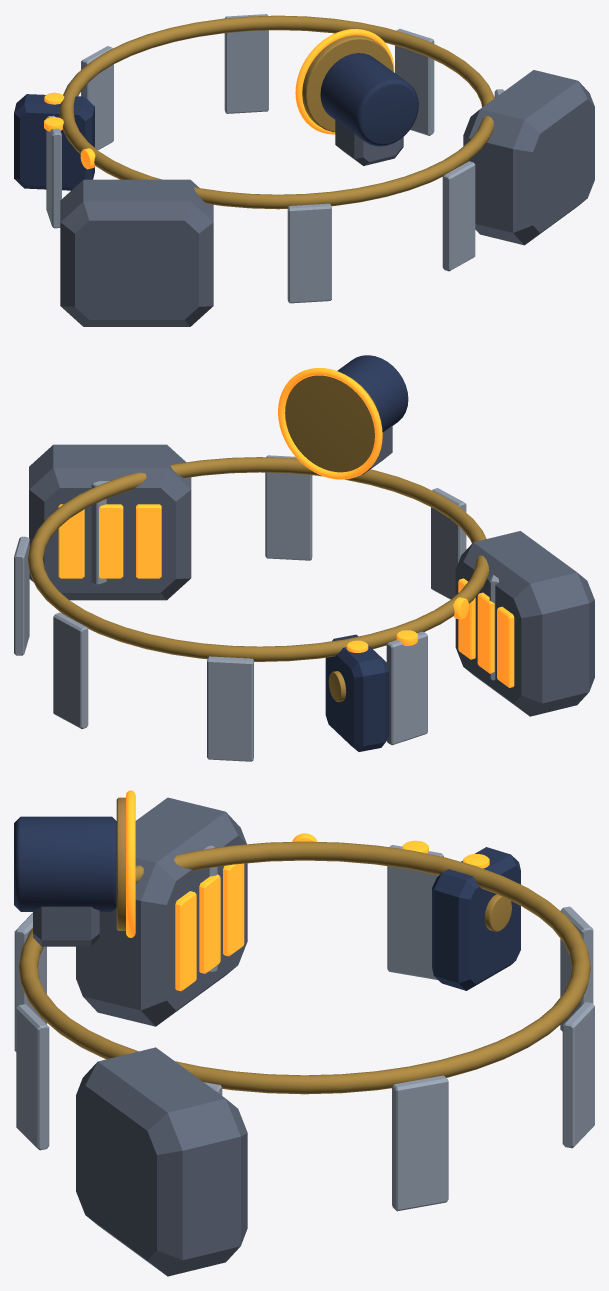
File: tower_overclock_efficiency_s7.glb
3 renders of one model, top to bottom at view 1: azimuth 30°, elevation 25°; view 2: azimuth 150°, elevation 25°; view 3: azimuth 270°, elevation 25°, orthographic. The views are drawn at different scales.
Visible parts, largest first — view 1: overclock_battery_b, overclock_battery, overclock_coolant_loop, overclock_governor, overclock_regulator, overclock_base_fin6, overclock_base_fin2, overclock_base_fin5, overclock_governor_wheel, overclock_base_fin3, overclock_base_fin1, overclock_base_fin0 (+2 smaller); view 2: overclock_battery_b, overclock_battery, overclock_coolant_loop, overclock_governor_wheel, overclock_regulator, overclock_base_fin1, overclock_base_fin5, overclock_base_fin0, overclock_base_fin2, overclock_governor, overclock_base_fin6, overclock_governor_glow (+8 smaller); view 3: overclock_battery, overclock_coolant_loop, overclock_battery_b, overclock_governor, overclock_regulator, overclock_base_fin3, overclock_base_fin0, overclock_base_fin5, overclock_base_fin2, overclock_governor_mount, overclock_battery_b_cell-0.1, overclock_battery_b_cell0 (+6 smaller).
Boxes of the visible parts, x1=… form: overclock_battery_b: x1=60, y1=179, x2=213, y2=326; overclock_battery: x1=463, y1=70, x2=594, y2=245; overclock_coolant_loop: x1=59, y1=15, x2=494, y2=209; overclock_governor: x1=320, y1=53, x2=418, y2=146; overclock_regulator: x1=14, y1=94, x2=94, y2=190; overclock_base_fin6: x1=287, y1=203, x2=331, y2=303; overclock_base_fin2: x1=224, y1=14, x2=268, y2=113; overclock_base_fin5: x1=442, y1=161, x2=475, y2=271; overclock_governor_wheel: x1=302, y1=35, x2=393, y2=132; overclock_base_fin3: x1=395, y1=28, x2=434, y2=135; overclock_base_fin1: x1=81, y1=46, x2=113, y2=149; overclock_base_fin0: x1=46, y1=115, x2=61, y2=228; overclock_battery_b: x1=455, y1=531, x2=594, y2=716; overclock_battery: x1=29, y1=444, x2=191, y2=600; overclock_coolant_loop: x1=28, y1=457, x2=489, y2=661; overclock_governor_wheel: x1=285, y1=375, x2=381, y2=472; overclock_regulator: x1=325, y1=634, x2=389, y2=751; overclock_base_fin1: x1=207, y1=656, x2=253, y2=761; overclock_base_fin5: x1=265, y1=455, x2=312, y2=560; overclock_base_fin0: x1=386, y1=631, x2=427, y2=745; overclock_base_fin2: x1=53, y1=612, x2=88, y2=728; overclock_governor: x1=337, y1=355, x2=408, y2=432; overclock_base_fin6: x1=431, y1=488, x2=466, y2=599; overclock_governor_glow: x1=278, y1=368, x2=382, y2=479; overclock_battery: x1=76, y1=1047, x2=247, y2=1276; overclock_coolant_loop: x1=18, y1=841, x2=590, y2=1094; overclock_battery_b: x1=76, y1=797, x2=247, y2=1026; overclock_governor: x1=14, y1=816, x2=116, y2=911; overclock_regulator: x1=432, y1=847, x2=520, y2=990; overclock_base_fin3: x1=392, y1=1075, x2=448, y2=1211; overclock_base_fin0: x1=387, y1=845, x2=443, y2=979; overclock_base_fin5: x1=16, y1=1004, x2=49, y2=1150; overclock_base_fin2: x1=562, y1=1002, x2=594, y2=1148; overclock_governor_mount: x1=33, y1=906, x2=99, y2=946; overclock_battery_b_cell-0.1: x1=175, y1=891, x2=196, y2=991; overclock_battery_b_cell0: x1=199, y1=874, x2=220, y2=973.
Bounding box in the file's own units: 1.67 × 0.7446 × 1.22.
